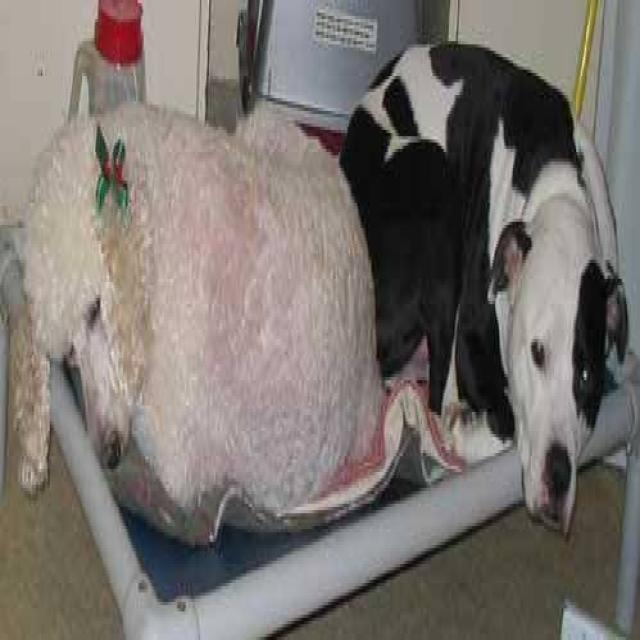dog: (338, 38, 628, 539)
